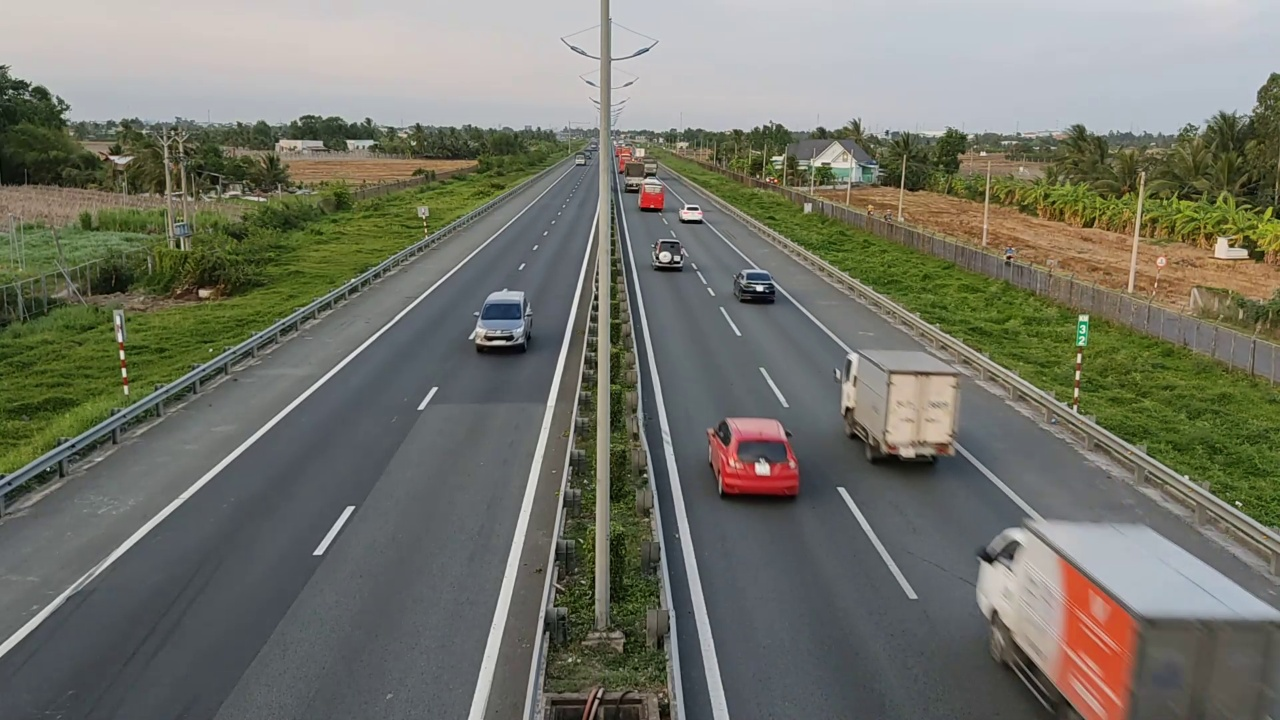car: (705, 416, 801, 499), (471, 289, 533, 353), (731, 267, 777, 303), (651, 237, 684, 270), (679, 203, 703, 223)
truck: (968, 515, 1272, 715), (834, 347, 962, 467)
